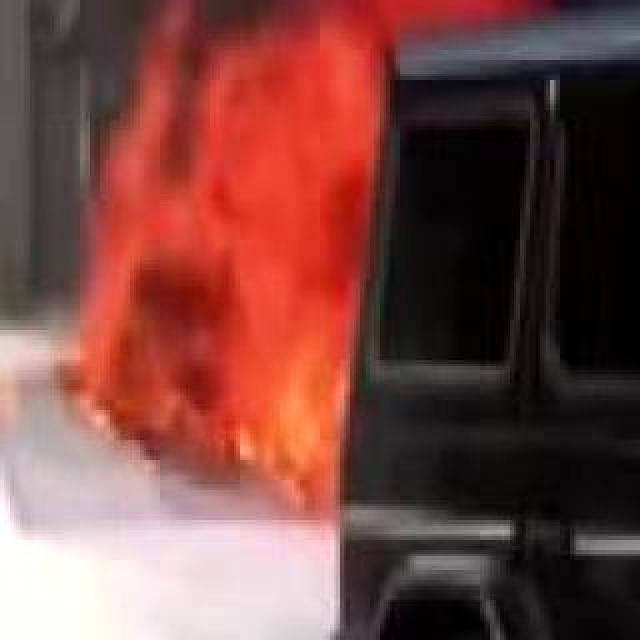fire: (68, 0, 558, 494)
